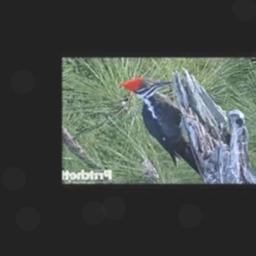Woodpecker: (120, 77, 202, 177)
